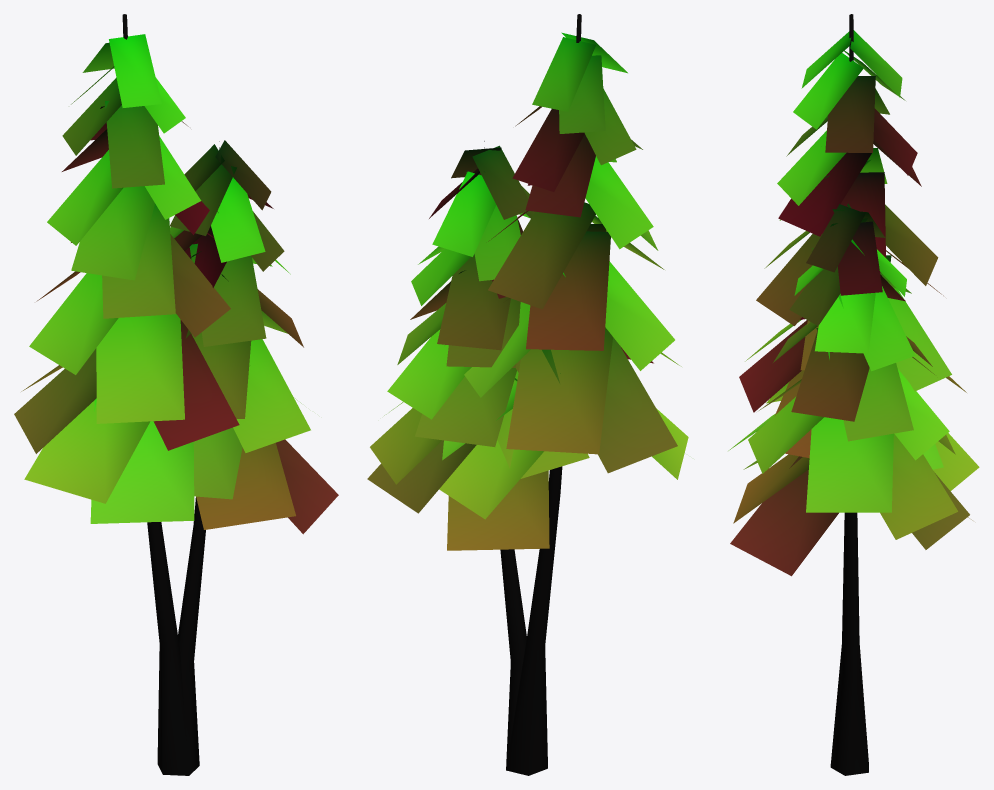
File: SuperPine_1_9.fbx
3 views of the same model, side by side, from view 1: azimuth 30°, elevation 25°; view 2: azimuth 150°, elevation 25°; view 3: azimuth 270°, elevation 25° (orthographic). The views are drawn at different scales.
Parts seen in each view (by area): view 1: SuperPine_1_9; view 2: SuperPine_1_9; view 3: SuperPine_1_9.
Boxes of the visible parts, bbox=[...] form: SuperPine_1_9: bbox=[14, 14, 338, 775]; SuperPine_1_9: bbox=[367, 14, 688, 775]; SuperPine_1_9: bbox=[728, 14, 979, 775].
Bounding box in the file's own units: 269 × 688 × 217.
